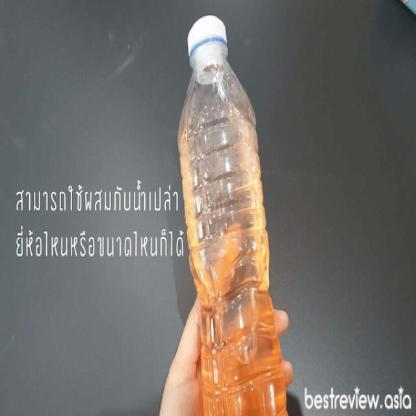Plastic Bottle: (179, 16, 288, 416)
